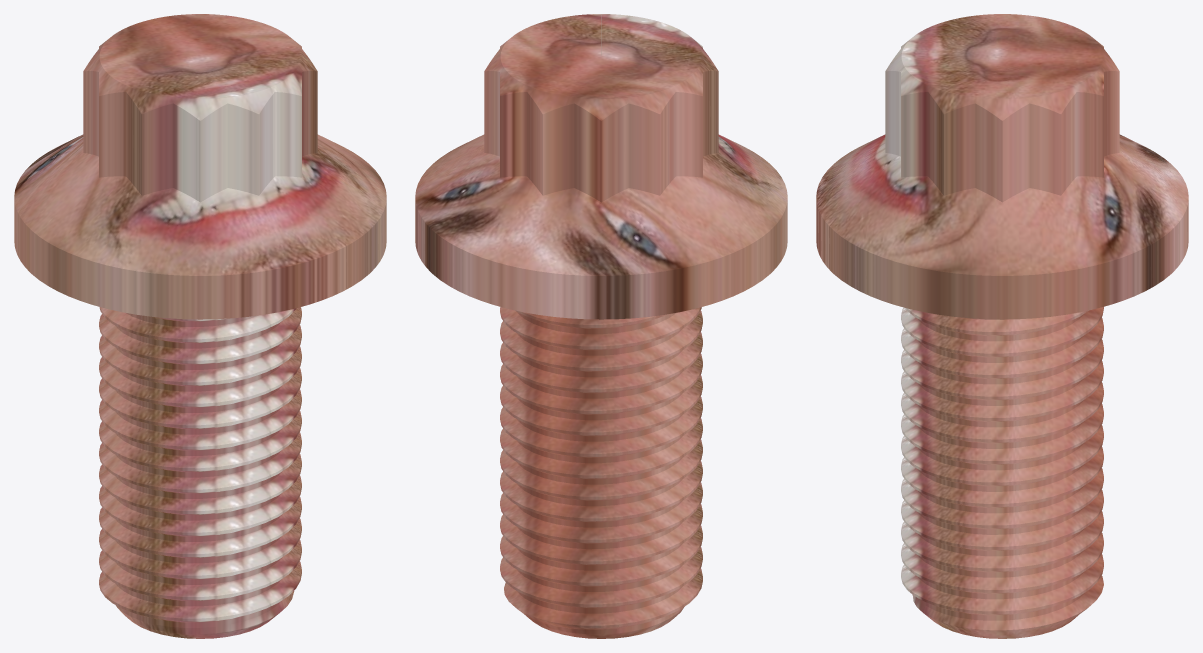
File: kroeger-12-point-bolt.glb
3 views of the same model, side by side, from view 1: azimuth 30°, elevation 25°; view 2: azimuth 150°, elevation 25°; view 3: azimuth 270°, elevation 25° (orthographic).
Parts seen in each view (by area): view 1: Bolt.012; view 2: Bolt.012; view 3: Bolt.012.
Part boxes in pixels (x1=…): Bolt.012: x1=14, y1=14, x2=386, y2=638; Bolt.012: x1=415, y1=14, x2=787, y2=638; Bolt.012: x1=816, y1=14, x2=1188, y2=638.
Bounding box in the file's own units: 0.011 × 0.0179 × 0.011.
Materials: 1 (1 with a texture image).
